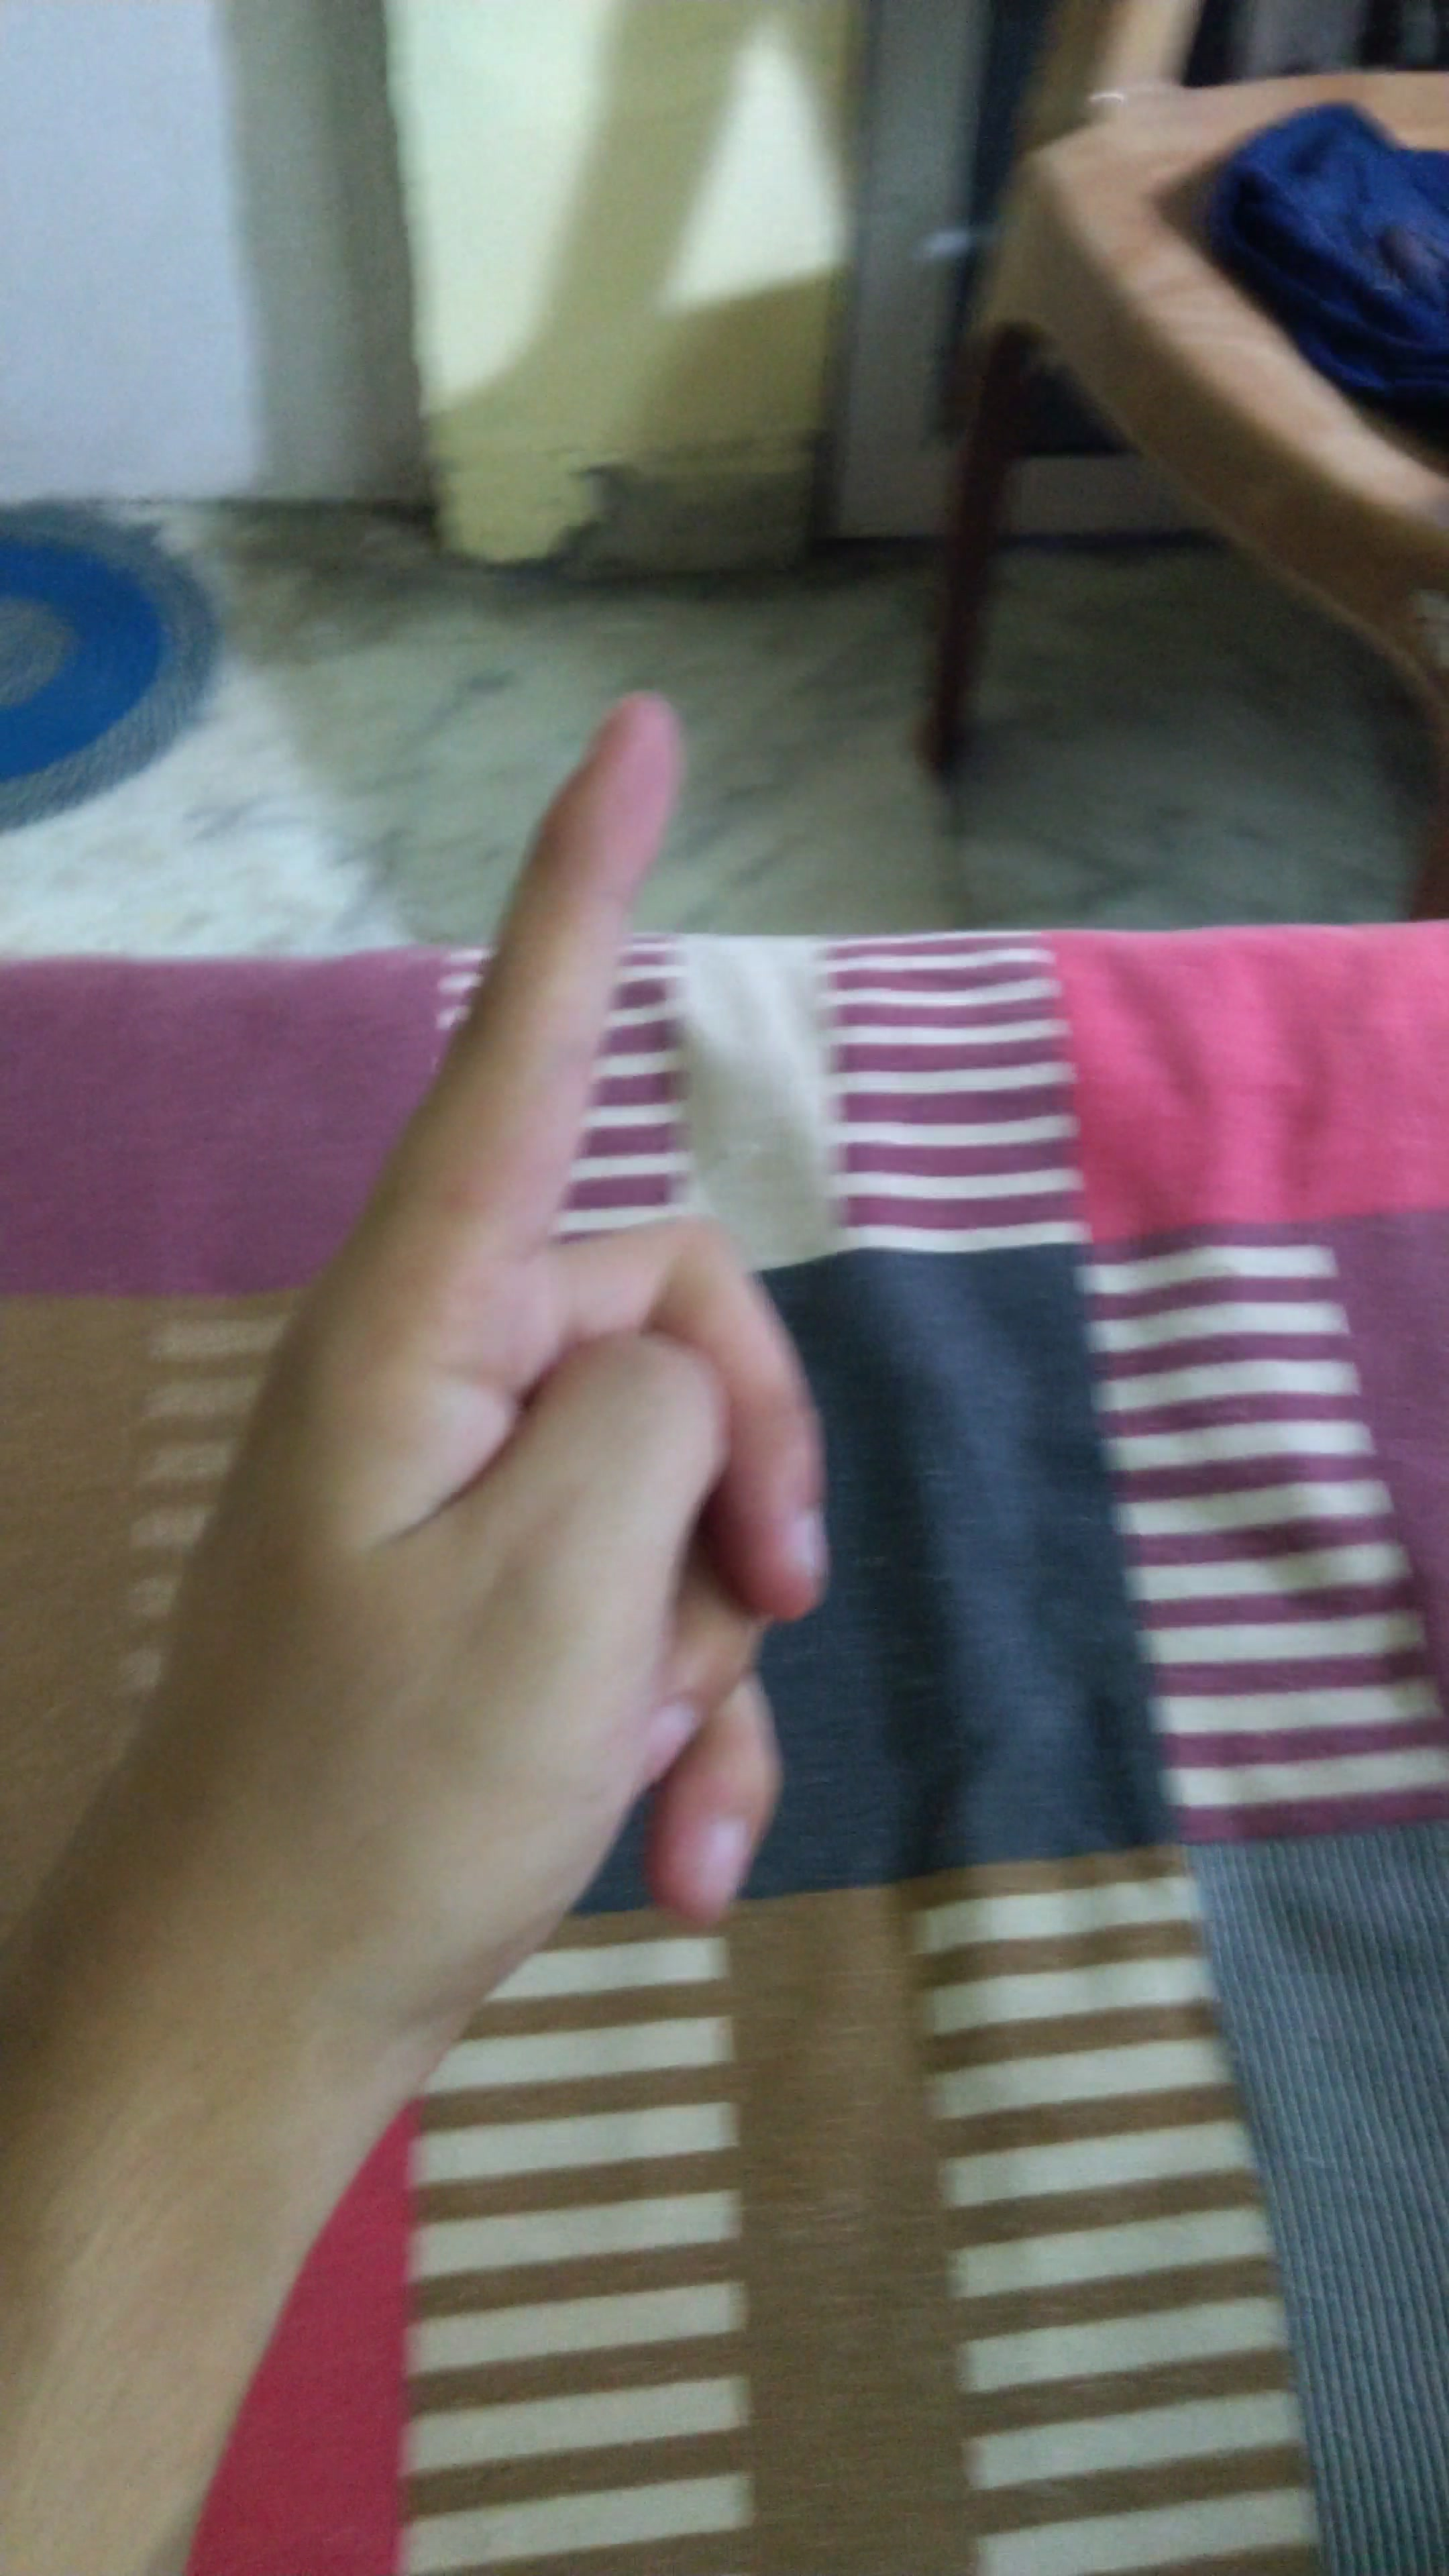hand: (103, 669, 936, 2074)
